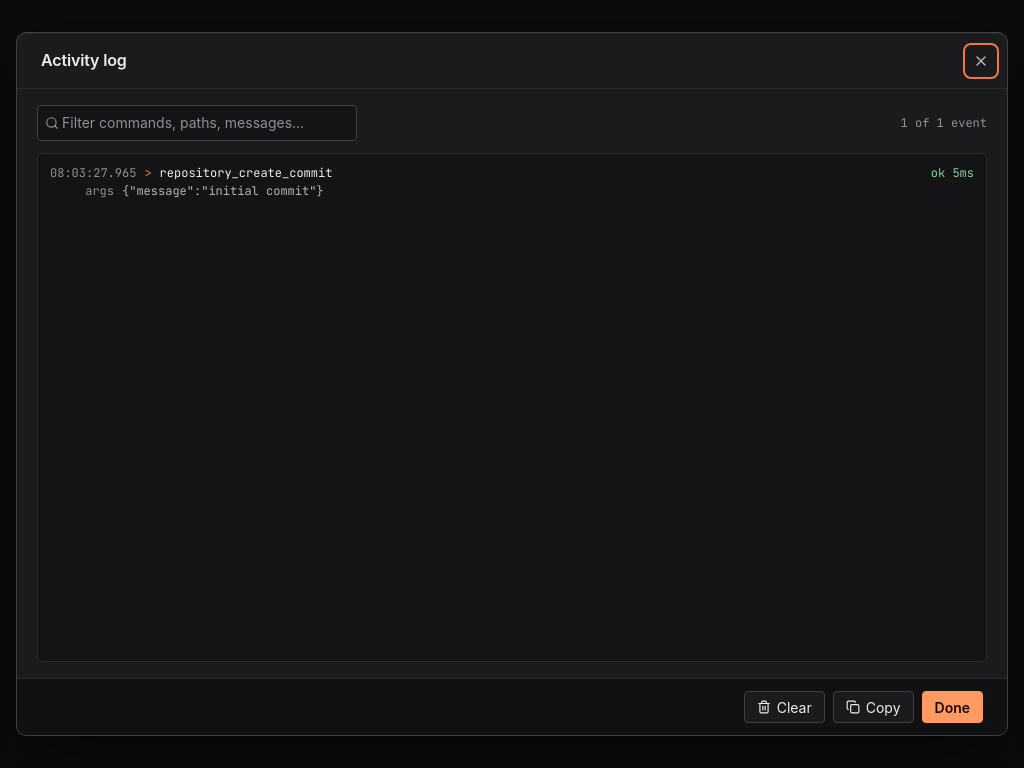
Scenario: ActivityLogDialog › clears activities when Clear is clicked
Click the button "Clear" at (784, 707), box left=744, top=691, right=825, bottom=723
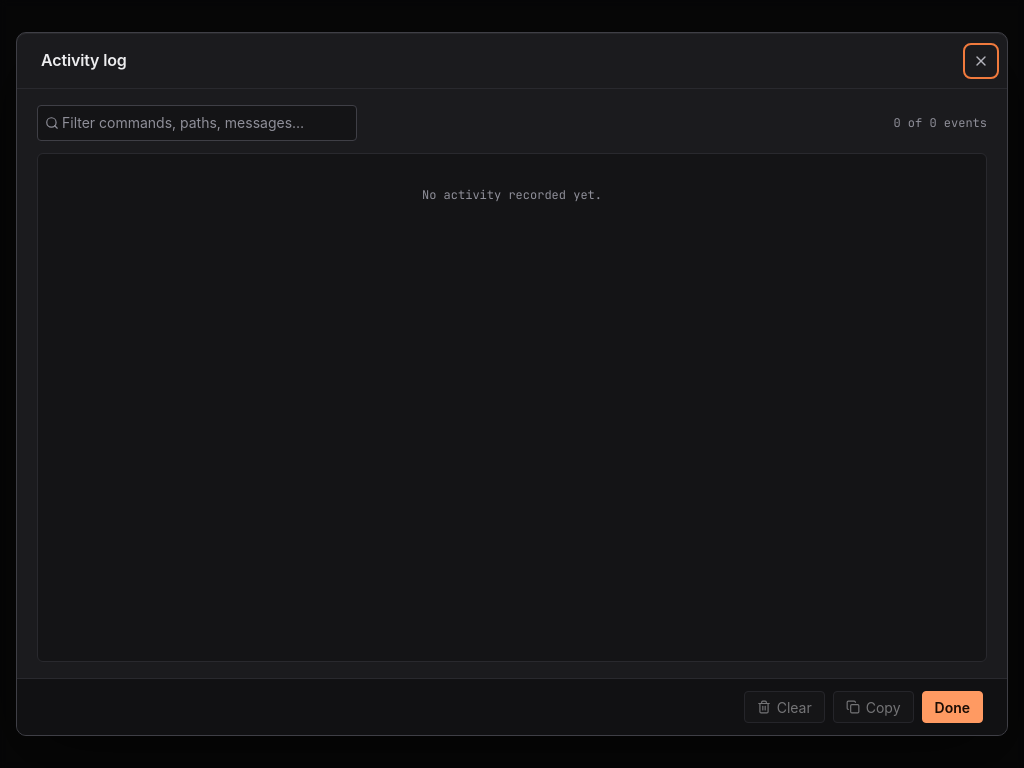
Check: the text "No activity recorded yet." is shown, box left=422, top=187, right=602, bottom=203
